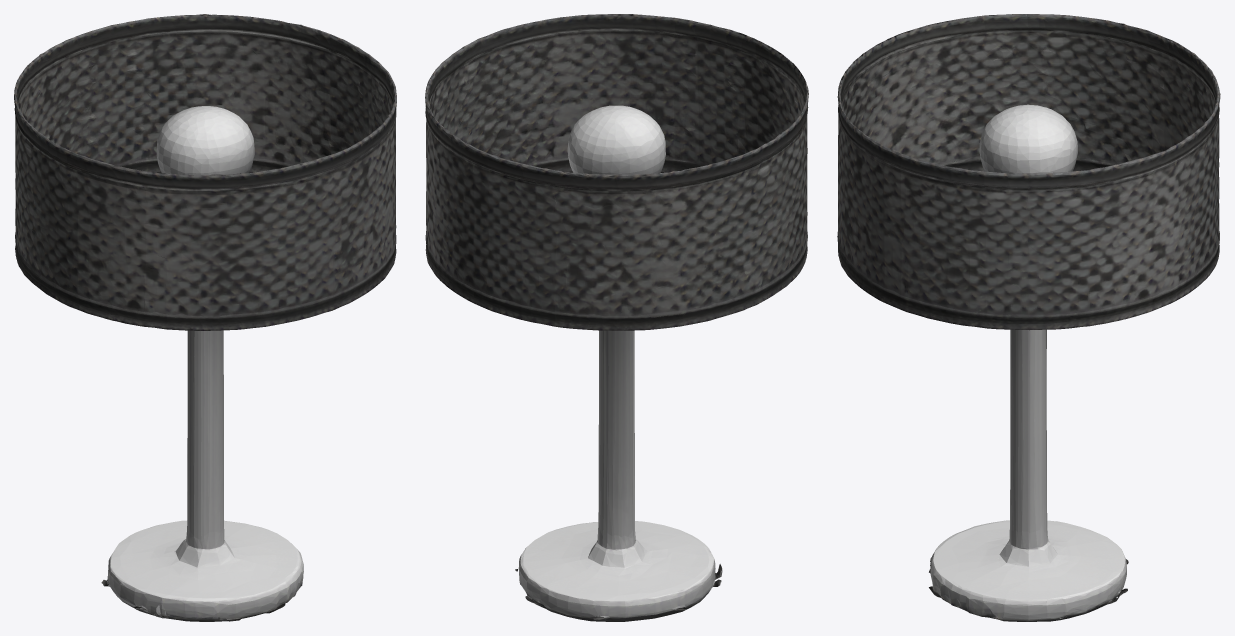
File: 16582_modified_new-2.glb
3 renders of one model, left to right at view 1: azimuth 30°, elevation 25°; view 2: azimuth 150°, elevation 25°; view 3: azimuth 270°, elevation 25°, orthographic.
Parts seen in each view (by area): view 1: world; view 2: world; view 3: world.
Part boxes in pixels (x1,y1,x2,y2): world: [14, 14, 396, 621]; world: [425, 14, 808, 621]; world: [837, 14, 1220, 621].
Size of the model in its own units: 0.7083 by 0.9996 by 0.7091.
Materials: 1 (1 with a texture image).
